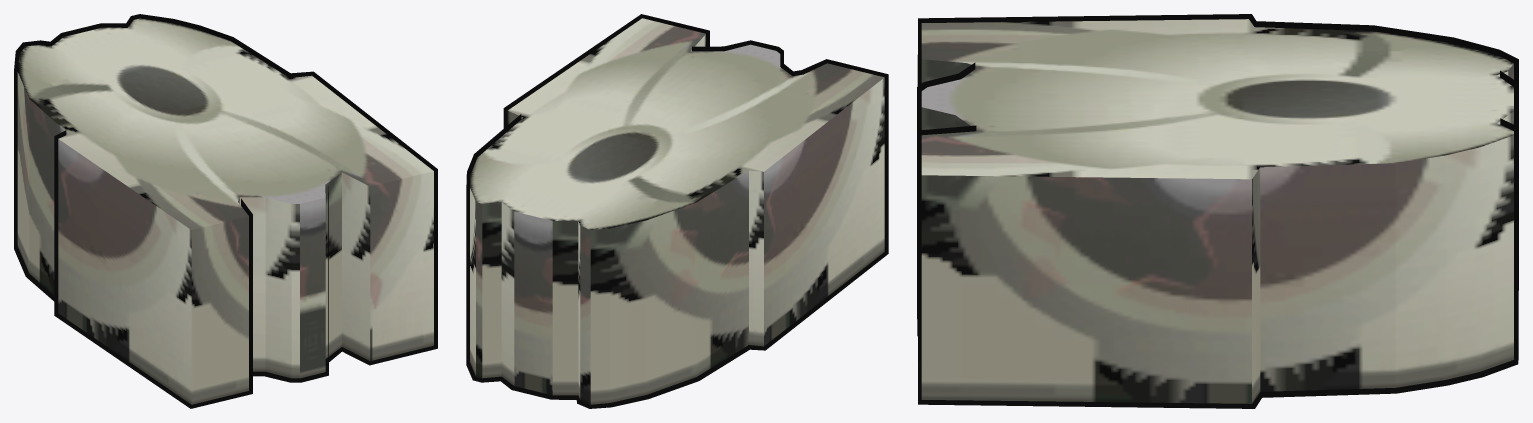
File: Building_AncientMechGestatorTank_Things_Building_Mech_AncientMechGestatorIntact_Empty_AncientMechGestatorIntact_Empty.glb
3 views of the same model, side by side, from view 1: azimuth 30°, elevation 25°; view 2: azimuth 150°, elevation 25°; view 3: azimuth 270°, elevation 25° (orthographic). The views are drawn at different scales.
Parts seen in each view (by area): view 1: Body, Outline; view 2: Body, Outline; view 3: Body, Outline.
Boxes of the visible parts, x1,y1,x2,y2 form: Body: [17, 18, 433, 404]; Outline: [14, 14, 437, 408]; Body: [470, 18, 884, 404]; Outline: [466, 14, 888, 408]; Body: [921, 19, 1513, 403]; Outline: [917, 14, 1518, 408].
Bounding box in the file's own units: 0.9579 × 0.6424 × 1.49.
Materials: 2 (1 with a texture image).
